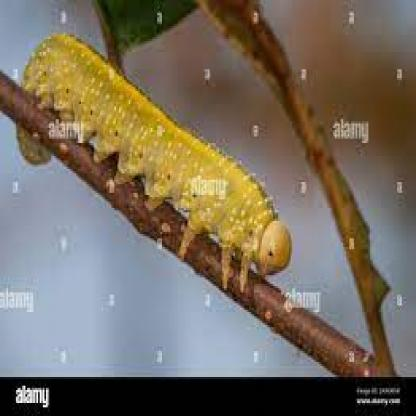sawfly: (14, 29, 292, 293)
